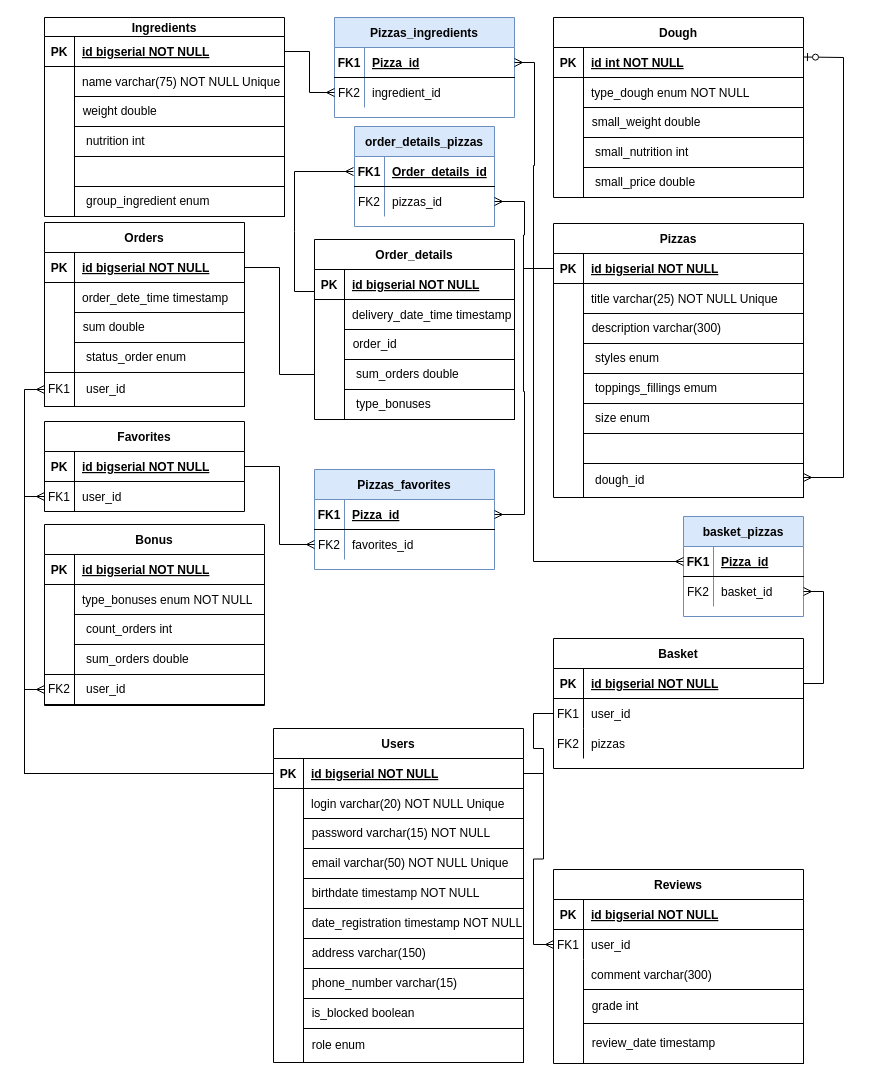
Some shapes in this 869 by 1081 pixel diagram are drawn without their labels. Here are the shapes that lost their labels. From the top down, the centre of each, then its label:
(x=179, y=171): price double
(x=693, y=450): is_standard_recipe
